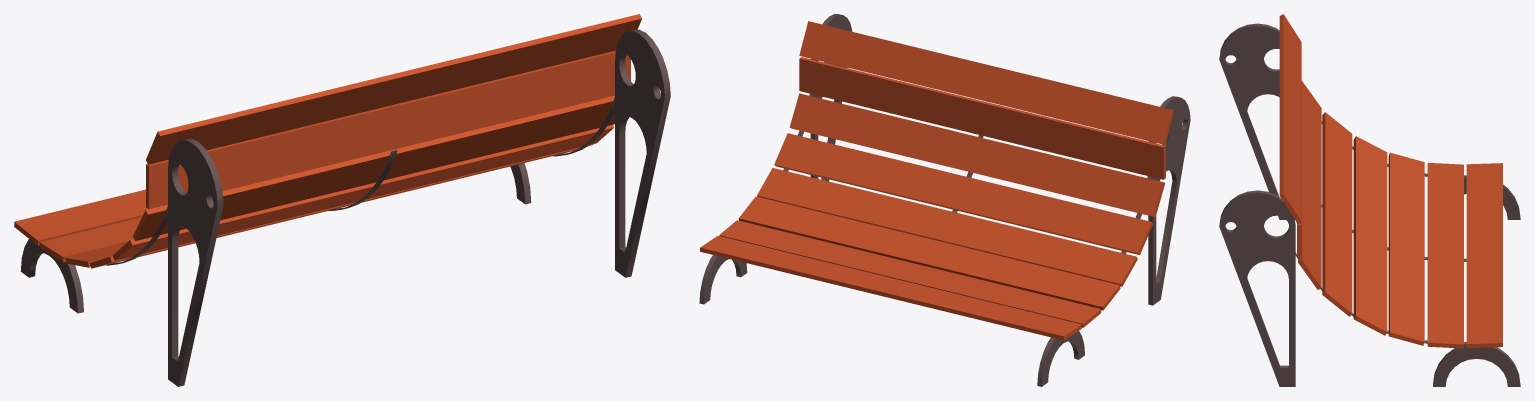
The picture shows the model from 3 angles, left to right: view 1: azimuth 30°, elevation 25°; view 2: azimuth 150°, elevation 25°; view 3: azimuth 270°, elevation 25°; orthographic projection. The views are drawn at different scales.
Visible parts, largest first — view 1: mesh1_mesh1-geometry, mesh15_mesh15-geometry, mesh14_mesh14-geometry, mesh3_mesh3-geometry, mesh2_mesh2-geometry, mesh13_mesh13-geometry, mesh12_mesh12-geometry, mesh9_mesh9-geometry, mesh5_mesh5-geometry, mesh11_mesh11-geometry, mesh10_mesh10-geometry, mesh4_mesh4-geometry; view 2: mesh14_mesh14-geometry, mesh15_mesh15-geometry, mesh13_mesh13-geometry, mesh1_mesh1-geometry, mesh11_mesh11-geometry, mesh10_mesh10-geometry, mesh12_mesh12-geometry, mesh9_mesh9-geometry, mesh2_mesh2-geometry, mesh5_mesh5-geometry, mesh4_mesh4-geometry, mesh3_mesh3-geometry; view 3: mesh9_mesh9-geometry, mesh10_mesh10-geometry, mesh12_mesh12-geometry, mesh3_mesh3-geometry, mesh11_mesh11-geometry, mesh13_mesh13-geometry, mesh2_mesh2-geometry, mesh15_mesh15-geometry, mesh14_mesh14-geometry, mesh4_mesh4-geometry, mesh5_mesh5-geometry.
Part boxes in pixels (bbox=[...]): mesh1_mesh1-geometry: bbox=[146, 50, 630, 208]; mesh15_mesh15-geometry: bbox=[146, 14, 641, 164]; mesh14_mesh14-geometry: bbox=[133, 95, 614, 240]; mesh3_mesh3-geometry: bbox=[615, 29, 670, 277]; mesh2_mesh2-geometry: bbox=[168, 138, 223, 386]; mesh13_mesh13-geometry: bbox=[112, 124, 614, 260]; mesh12_mesh12-geometry: bbox=[14, 189, 148, 245]; mesh9_mesh9-geometry: bbox=[39, 217, 141, 262]; mesh5_mesh5-geometry: bbox=[20, 239, 83, 313]; mesh11_mesh11-geometry: bbox=[90, 144, 593, 268]; mesh10_mesh10-geometry: bbox=[65, 243, 126, 267]; mesh4_mesh4-geometry: bbox=[510, 163, 531, 204]; mesh14_mesh14-geometry: bbox=[789, 93, 1165, 217]; mesh15_mesh15-geometry: bbox=[799, 21, 1174, 144]; mesh13_mesh13-geometry: bbox=[774, 133, 1152, 254]; mesh1_mesh1-geometry: bbox=[799, 57, 1165, 179]; mesh11_mesh11-geometry: bbox=[757, 168, 1137, 286]; mesh10_mesh10-geometry: bbox=[738, 196, 1120, 310]; mesh12_mesh12-geometry: bbox=[700, 236, 1081, 340]; mesh9_mesh9-geometry: bbox=[719, 220, 1101, 327]; mesh2_mesh2-geometry: bbox=[1148, 96, 1190, 305]; mesh5_mesh5-geometry: bbox=[1037, 331, 1084, 386]; mesh4_mesh4-geometry: bbox=[699, 255, 747, 304]; mesh3_mesh3-geometry: bbox=[810, 14, 852, 181]; mesh9_mesh9-geometry: bbox=[1427, 162, 1463, 348]; mesh10_mesh10-geometry: bbox=[1388, 152, 1424, 345]; mesh12_mesh12-geometry: bbox=[1466, 163, 1502, 348]; mesh3_mesh3-geometry: bbox=[1219, 190, 1295, 386]; mesh11_mesh11-geometry: bbox=[1353, 136, 1387, 335]; mesh13_mesh13-geometry: bbox=[1322, 112, 1352, 316]; mesh2_mesh2-geometry: bbox=[1219, 23, 1285, 219]; mesh15_mesh15-geometry: bbox=[1279, 14, 1301, 223]; mesh14_mesh14-geometry: bbox=[1298, 81, 1321, 289]; mesh4_mesh4-geometry: bbox=[1433, 345, 1520, 386]; mesh5_mesh5-geometry: bbox=[1464, 178, 1520, 219].
Bounding box in the file's own units: 0.7535 × 0.385 × 0.5329.
